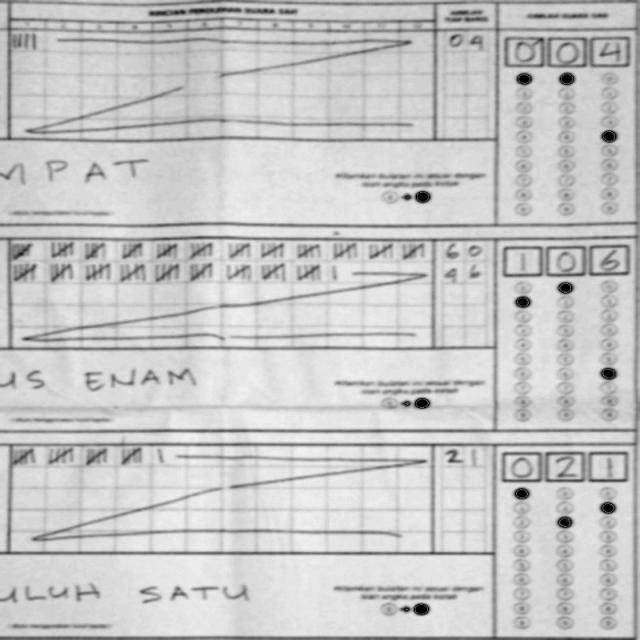Suara: (498, 444, 630, 484), (501, 31, 634, 70), (498, 239, 636, 276)
